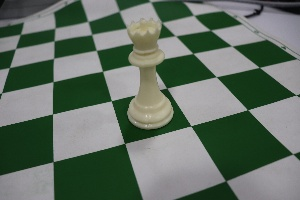white_queen: (115, 6, 179, 136)
